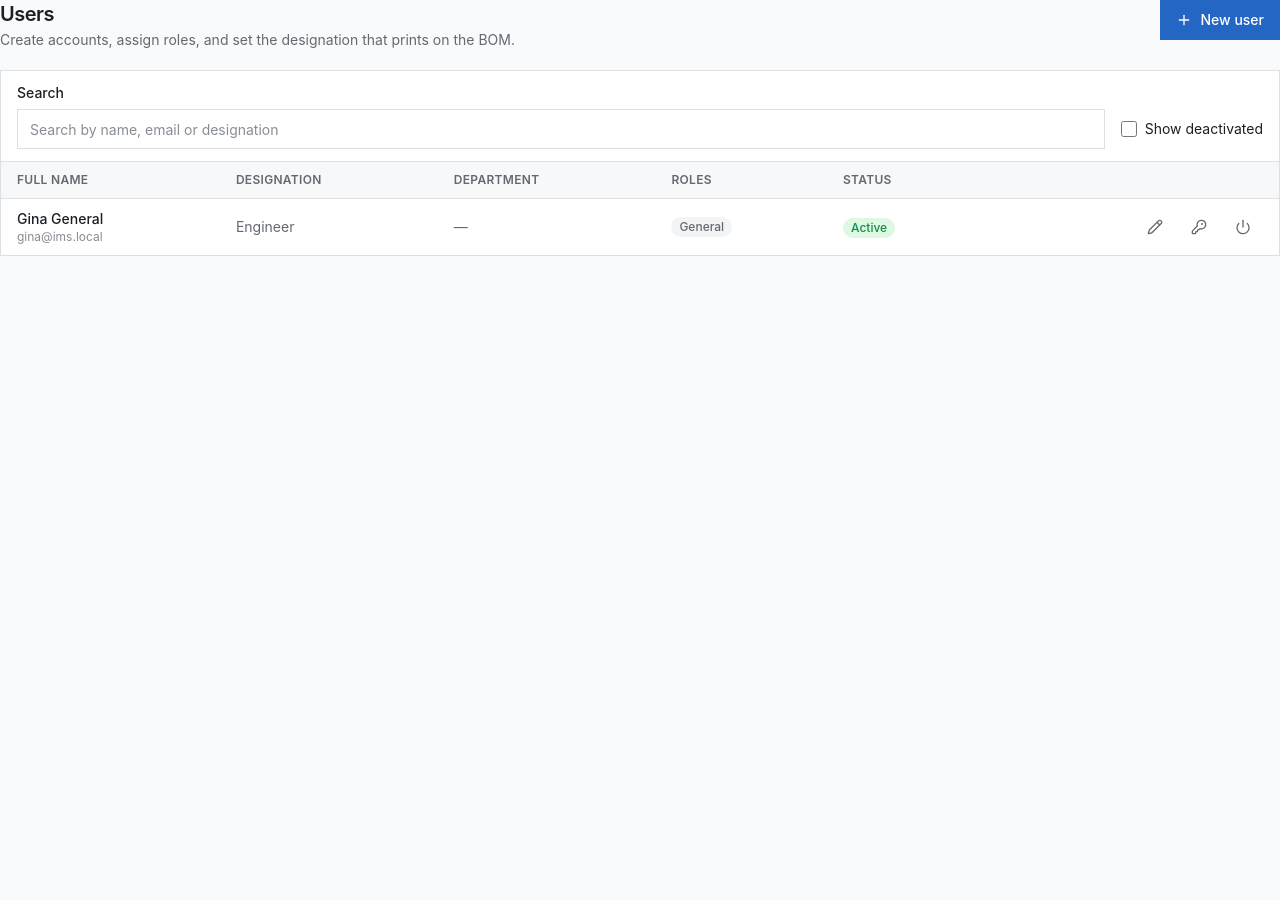
UsersPage deactivation › does nothing when the prompt is cancelled
Click the button named "Deactivate Gina General".
click(1243, 227)  # box [1223,211,1263,243]
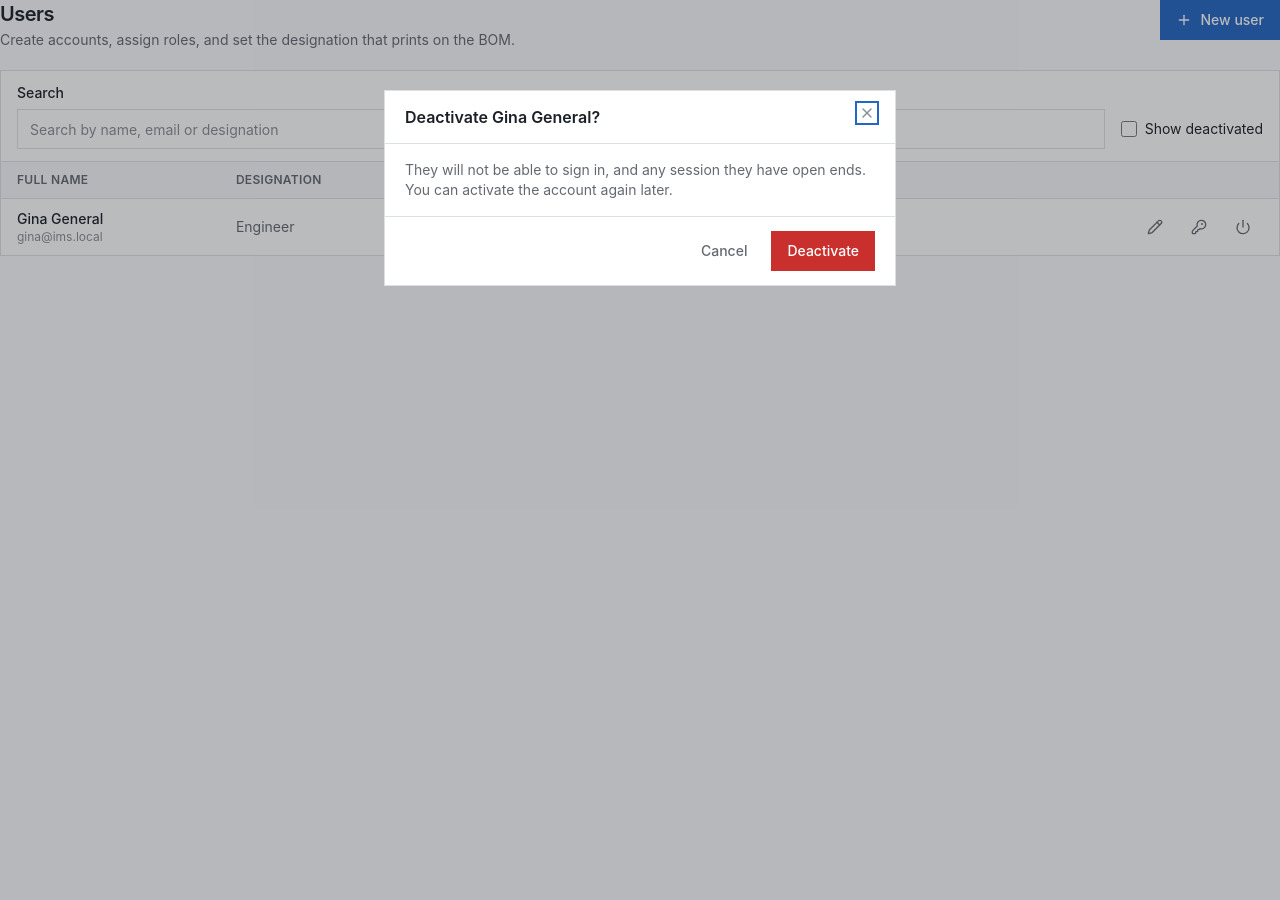
Click the button "Cancel".
click(724, 251)  # box [685,231,764,271]
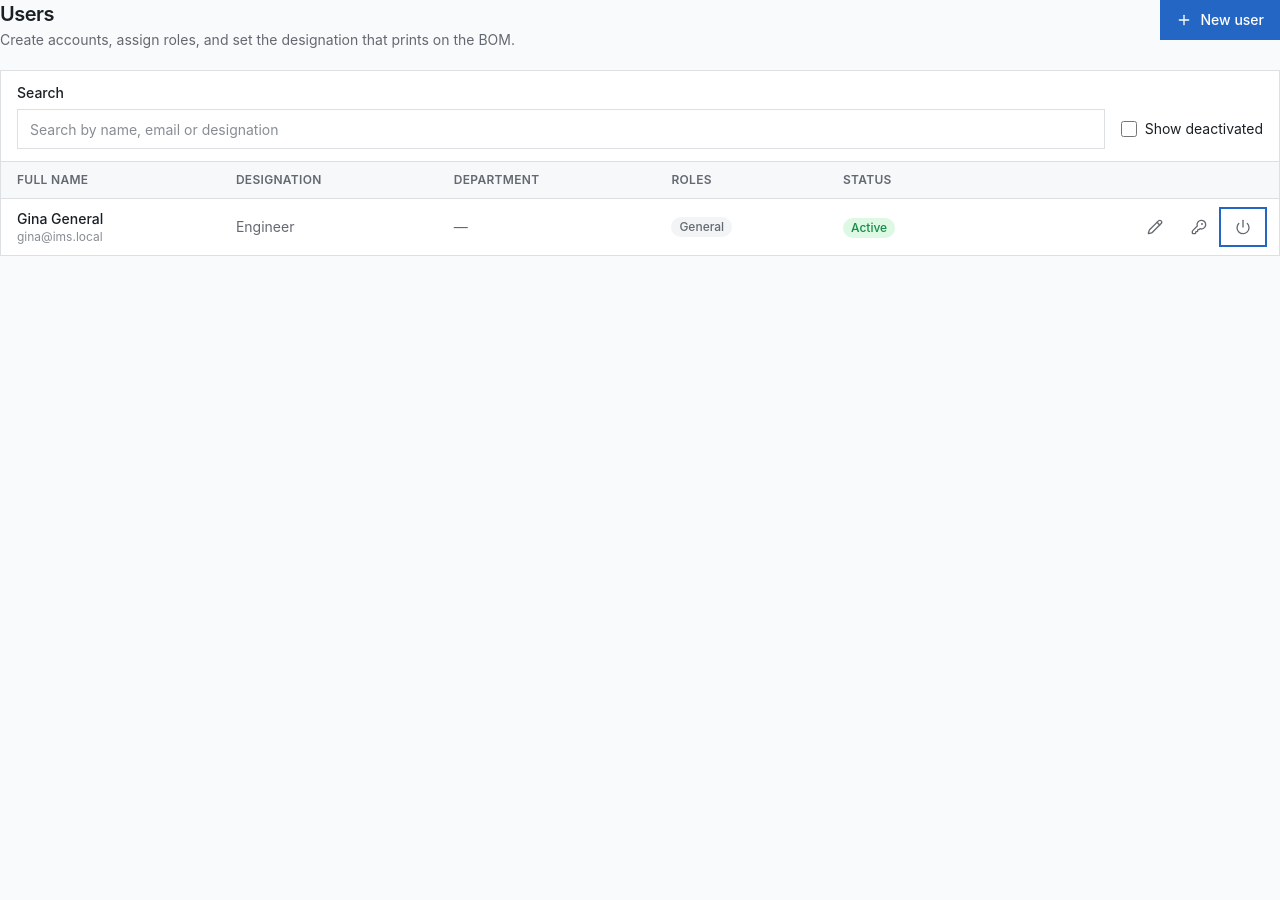
Expected: the dialog is gone
